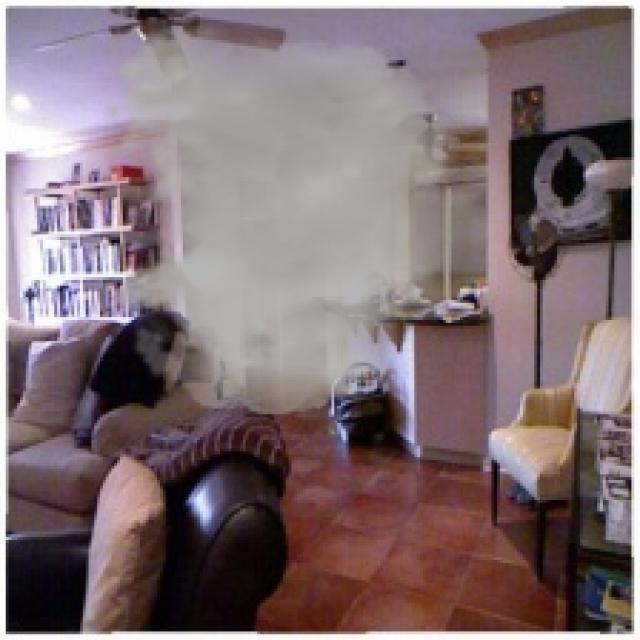Smoke: (100, 22, 509, 414)
